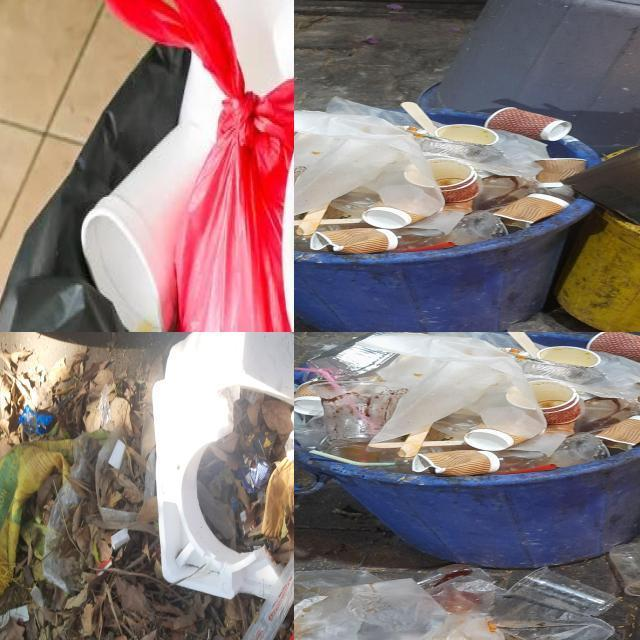Disposable: (81, 121, 213, 332), (310, 382, 408, 461), (215, 0, 285, 96), (509, 567, 619, 617), (392, 211, 508, 252), (494, 433, 610, 474), (179, 56, 223, 139), (329, 187, 380, 218), (431, 409, 482, 440), (610, 544, 640, 596)
Garbage: (0, 332, 294, 640), (81, 0, 294, 332), (294, 332, 640, 477), (294, 97, 583, 255), (294, 564, 619, 640), (610, 544, 640, 596)
Metal: (307, 332, 399, 380), (401, 126, 502, 163), (503, 348, 604, 385)
Plastic_Bag: (108, 0, 294, 332), (357, 332, 547, 442), (294, 110, 445, 216), (420, 564, 616, 640), (0, 440, 74, 596), (294, 570, 449, 640), (42, 480, 83, 594), (242, 552, 294, 640), (68, 427, 122, 495), (472, 131, 549, 178), (574, 353, 640, 400), (327, 97, 419, 127), (472, 176, 537, 211), (574, 398, 639, 433), (395, 209, 469, 237), (497, 431, 571, 459), (429, 332, 521, 349), (294, 416, 327, 450), (100, 506, 137, 523), (144, 448, 156, 499), (22, 479, 23, 480)
Plastic_Straw: (295, 367, 345, 396), (310, 450, 396, 466)
Plastic_wraper: (238, 433, 277, 493), (19, 405, 53, 435)
Thermocol: (152, 332, 294, 598)
